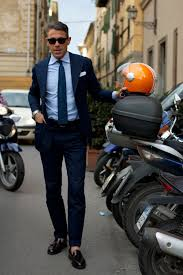F_M_suit jacket: (24, 53, 127, 128)
F_belt: (40, 120, 96, 137)
F_dress pants: (36, 135, 93, 250)
